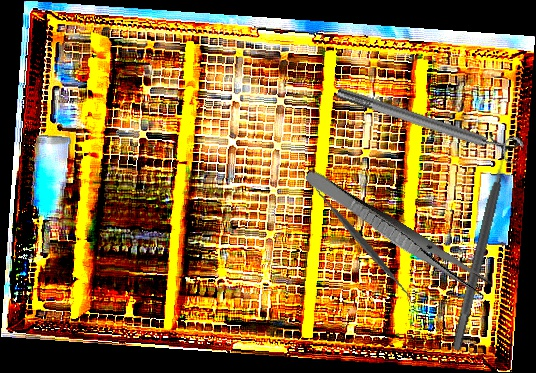Dressing Forceps: (300, 166, 494, 300)
Fixation Ring: (439, 131, 523, 354), (333, 76, 526, 169)
Spatula Surgical: (300, 181, 427, 307)
